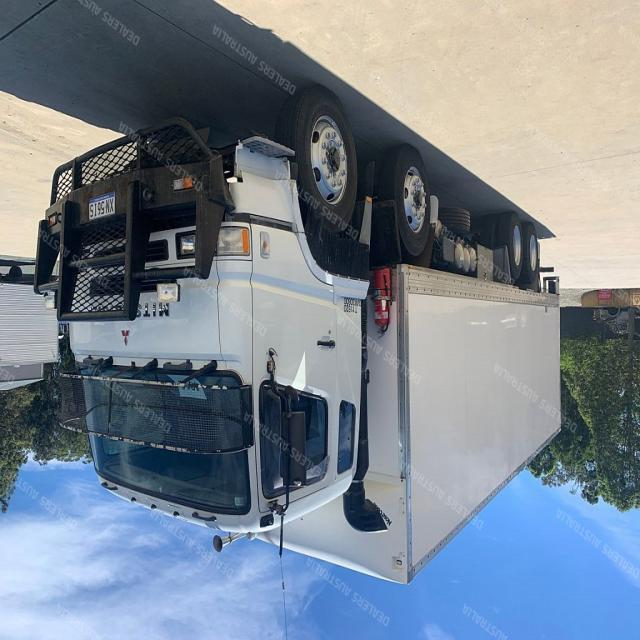truck: (32, 86, 560, 590)
